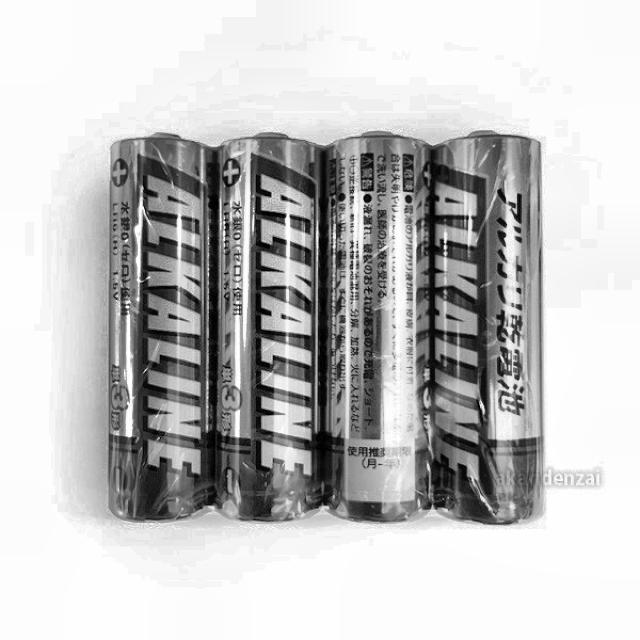drycell: (423, 123, 557, 531), (206, 124, 327, 549), (311, 122, 432, 540), (104, 125, 214, 536)
